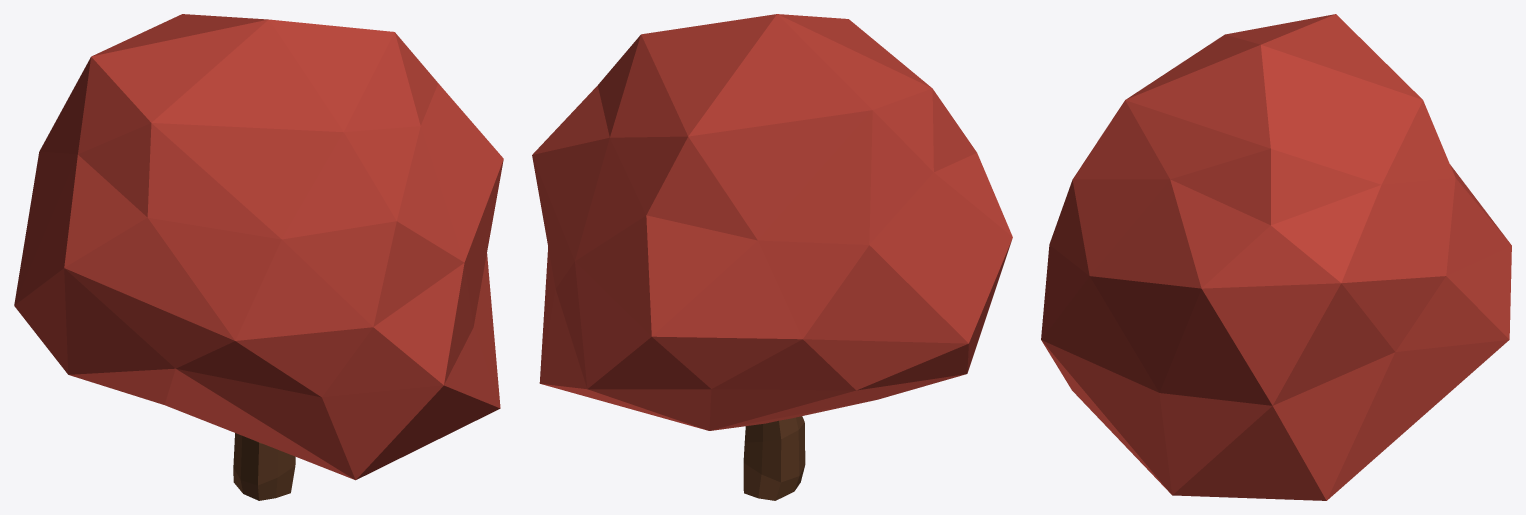
The model's file is Tree_61_Red.fbx.
3 renders of one model, left to right at view 1: azimuth 30°, elevation 25°; view 2: azimuth 150°, elevation 25°; view 3: azimuth 270°, elevation 25°, orthographic. The views are drawn at different scales.
Parts seen in each view (by area): view 1: Tree_61_Red_Part_1, Tree_61_Red_Part_2; view 2: Tree_61_Red_Part_1, Tree_61_Red_Part_2; view 3: Tree_61_Red_Part_1.
Boxes of the visible parts, bbox=[...] form: Tree_61_Red_Part_1: bbox=[14, 14, 503, 480]; Tree_61_Red_Part_2: bbox=[233, 433, 295, 500]; Tree_61_Red_Part_1: bbox=[532, 14, 1012, 430]; Tree_61_Red_Part_2: bbox=[743, 416, 805, 500]; Tree_61_Red_Part_1: bbox=[1041, 14, 1511, 500].
Size of the model in its own units: 760 by 766 by 750.
